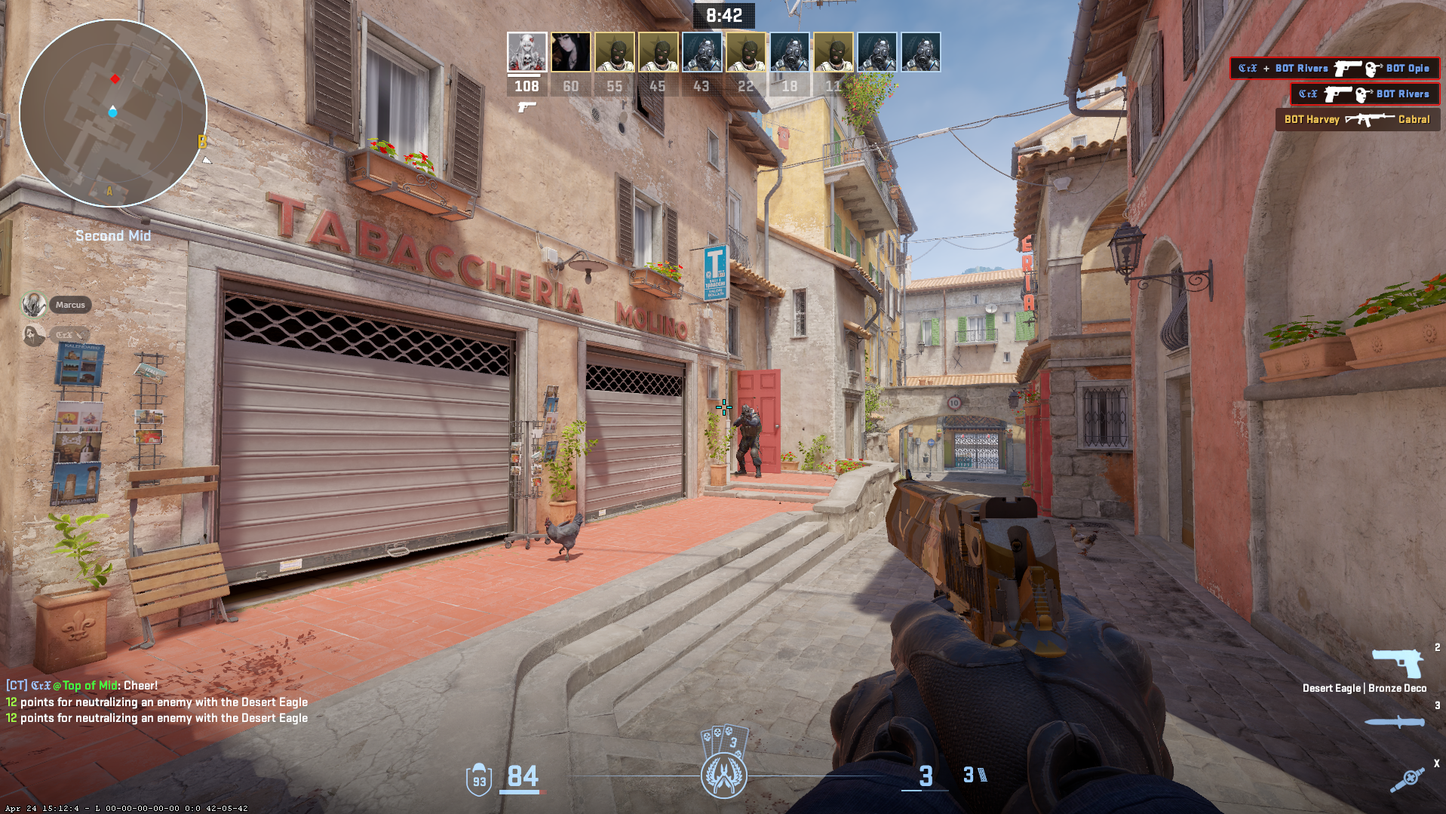CT: (734, 404, 762, 478)
